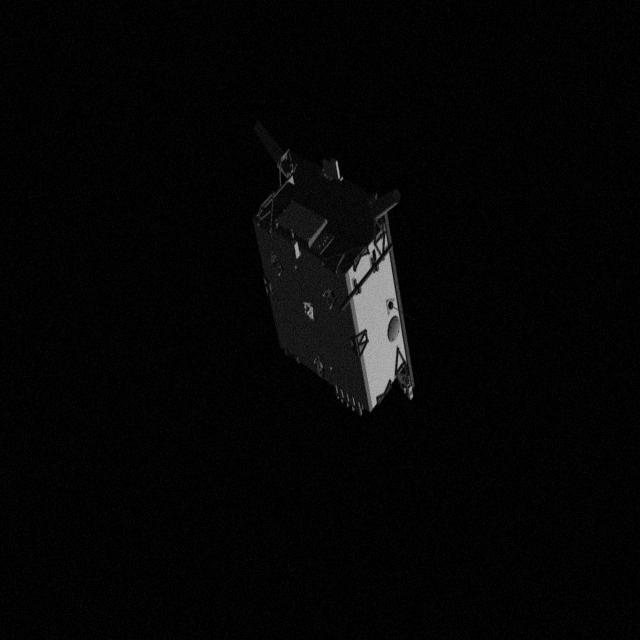satellite: (256, 114, 422, 422)
